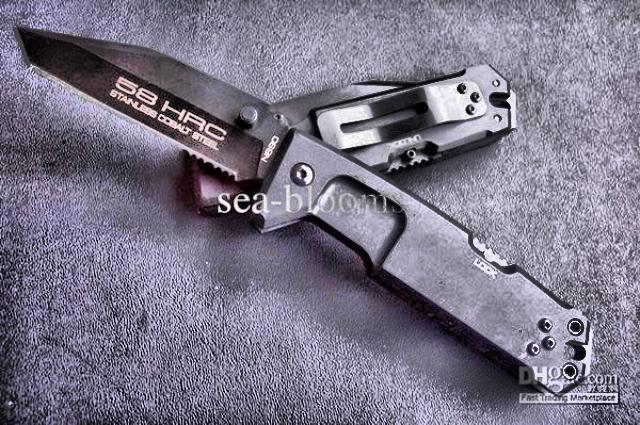knife: (8, 19, 288, 186)
